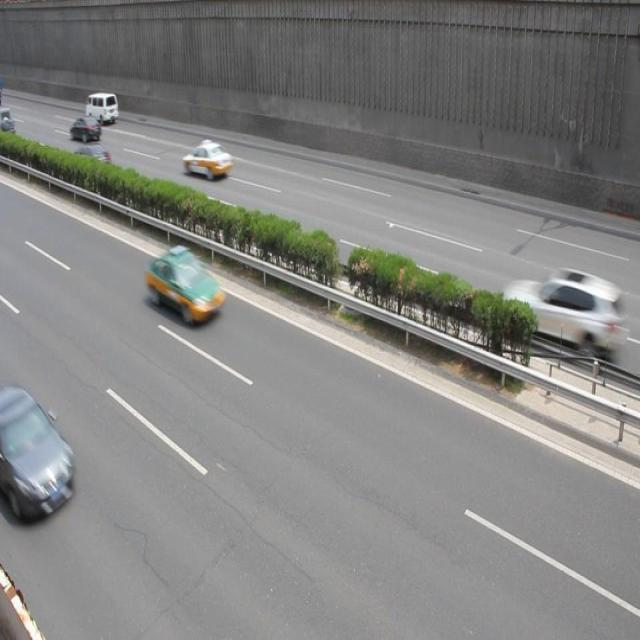car: (500, 266, 625, 362), (0, 381, 74, 528), (146, 240, 225, 330), (180, 139, 232, 182), (70, 143, 114, 181), (70, 118, 102, 143)
truck: (86, 93, 120, 125)
